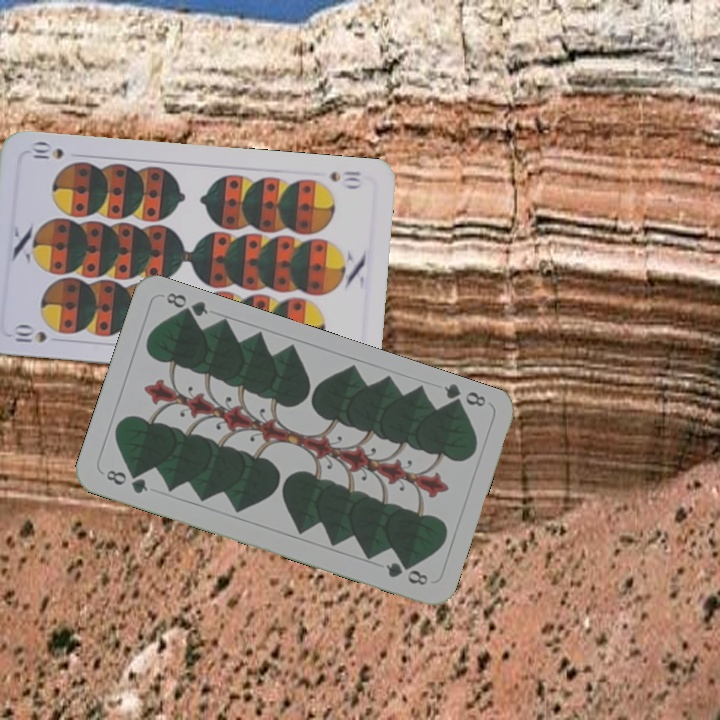G8: (439, 380, 489, 413), (102, 466, 151, 497)
S10: (326, 167, 364, 191), (10, 323, 50, 345)
